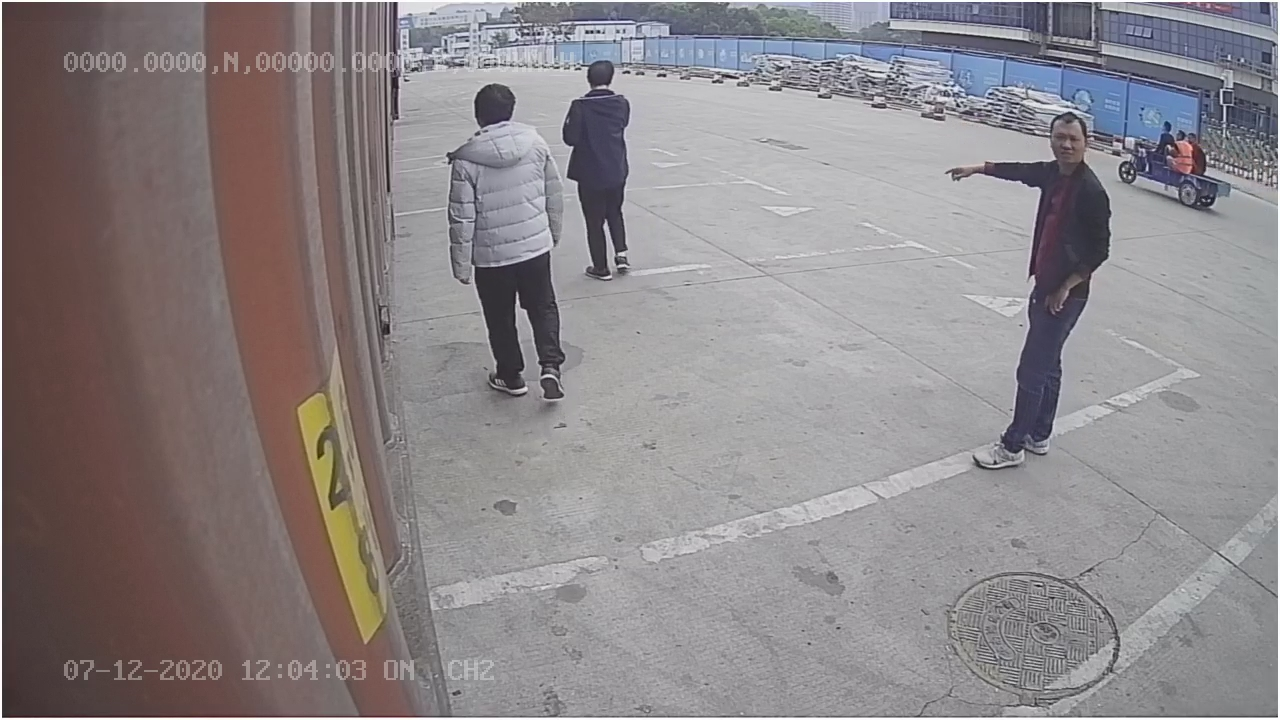person: (942, 97, 1117, 478), (439, 78, 568, 408)
